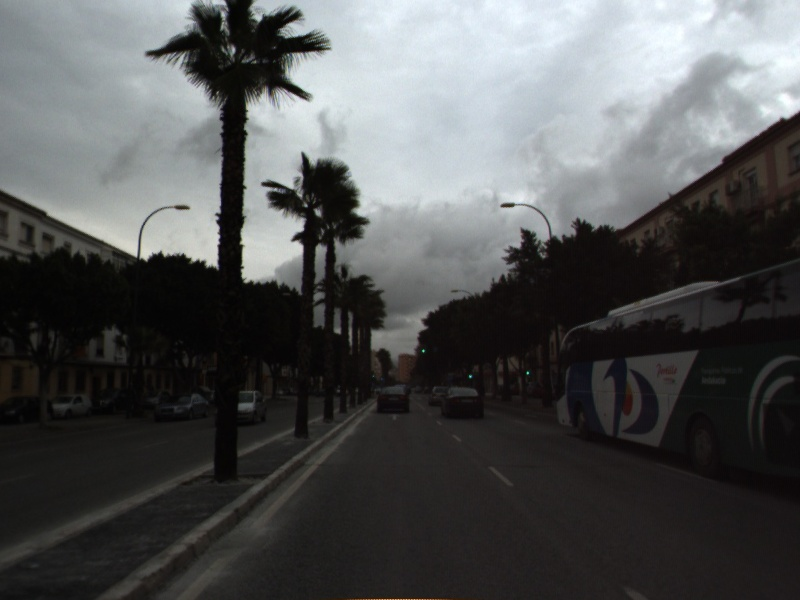STRAIGHT: (386, 411, 403, 422)
